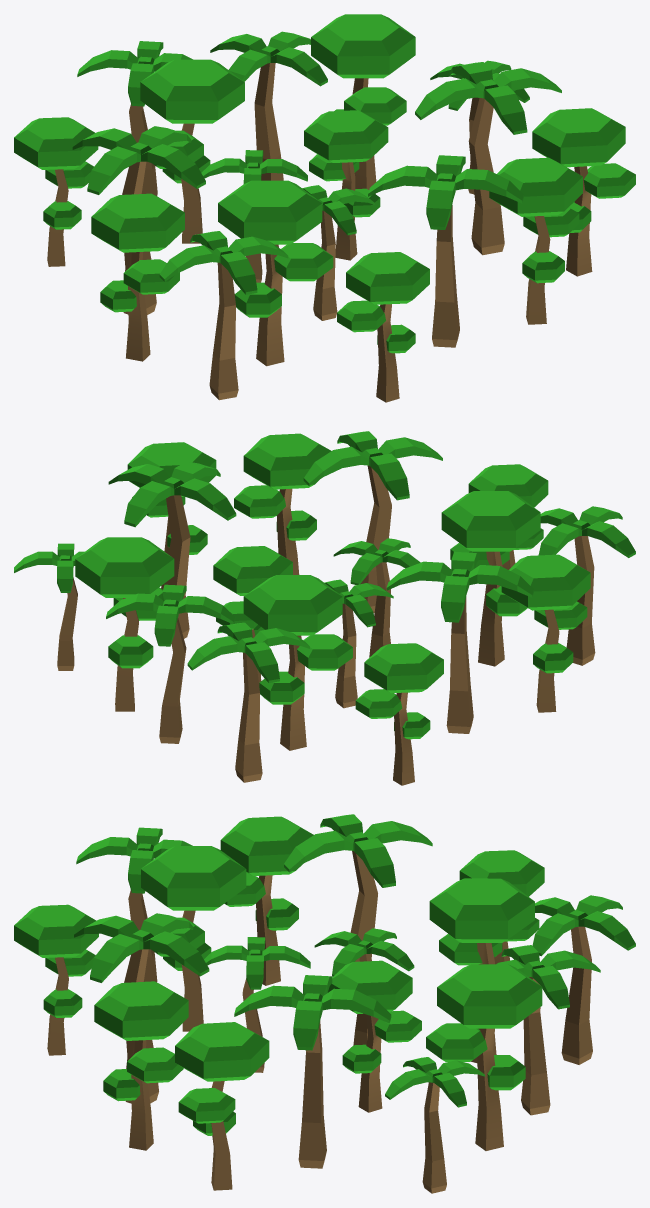
The model's file is nature_jungleFlat.fbx.
3 views of the same model, one above another, from view 1: azimuth 30°, elevation 25°; view 2: azimuth 150°, elevation 25°; view 3: azimuth 270°, elevation 25° (orthographic). The views are drawn at different scales.
Parts seen in each view (by area): view 1: Jungle; view 2: Jungle; view 3: Jungle.
Part boxes in pixels (<box>): Jungle: <box>14,14,635,402</box>; Jungle: <box>14,431,635,785</box>; Jungle: <box>14,814,635,1193</box>.
Size of the model in its own units: 177 by 56.81 by 187.
